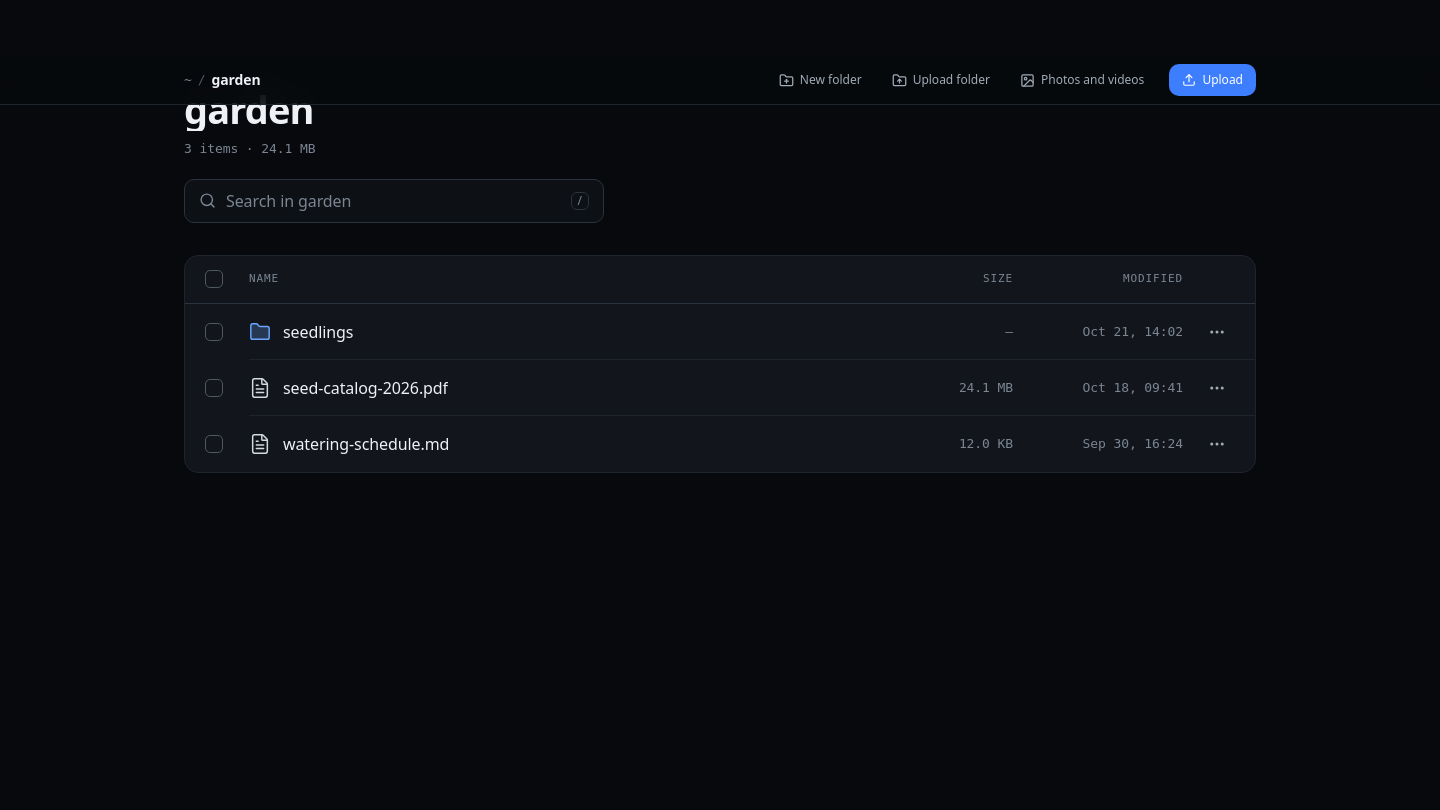
Test case: FilesPage › moves selected items to trash
Click the checkbox named "Select watering-schedule.md": (214, 444) [205, 435, 223, 453]
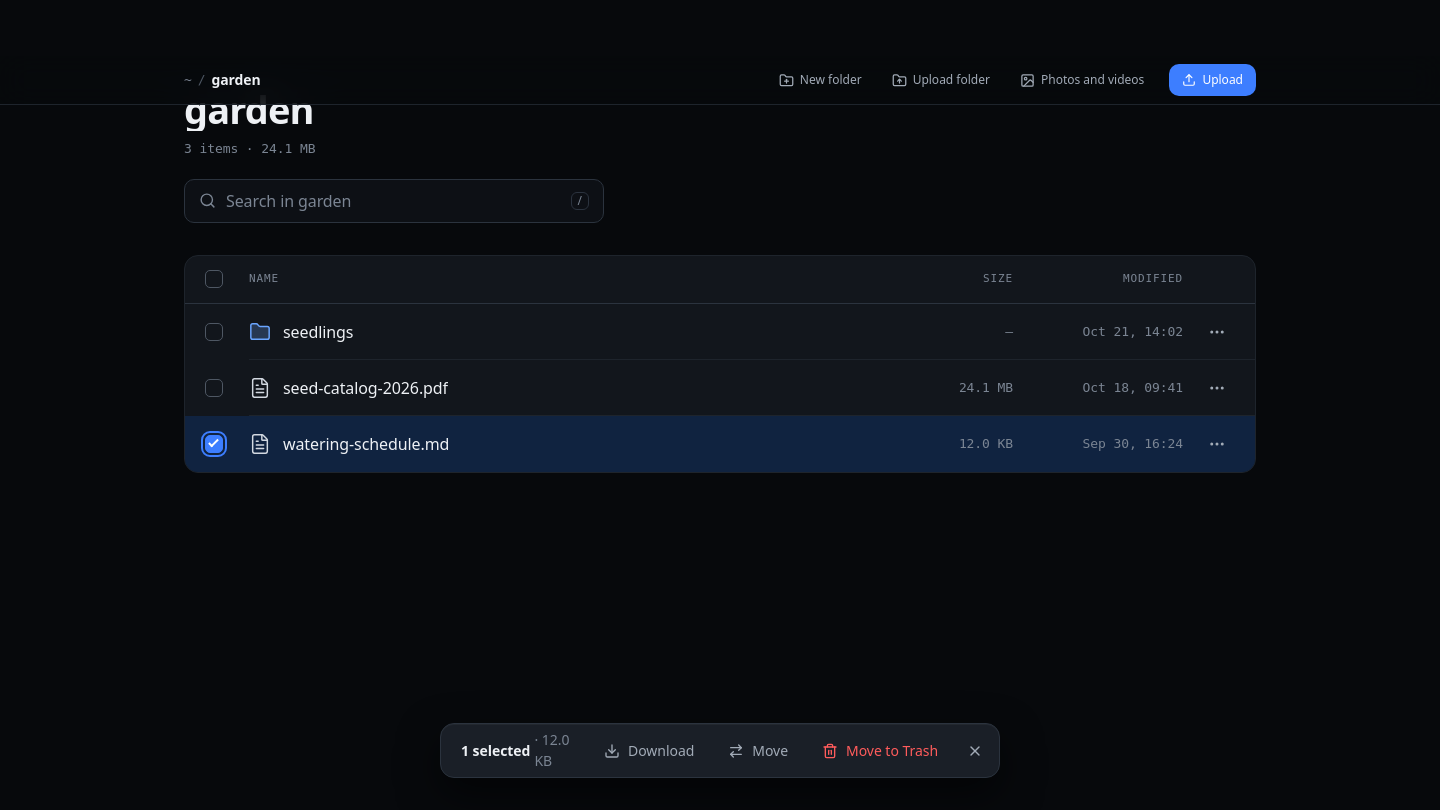
Expected: the element named "Selection" shows "1 selected", [440, 723, 1000, 778]
Click the button "Move to Trash": (880, 751) [807, 733, 953, 769]
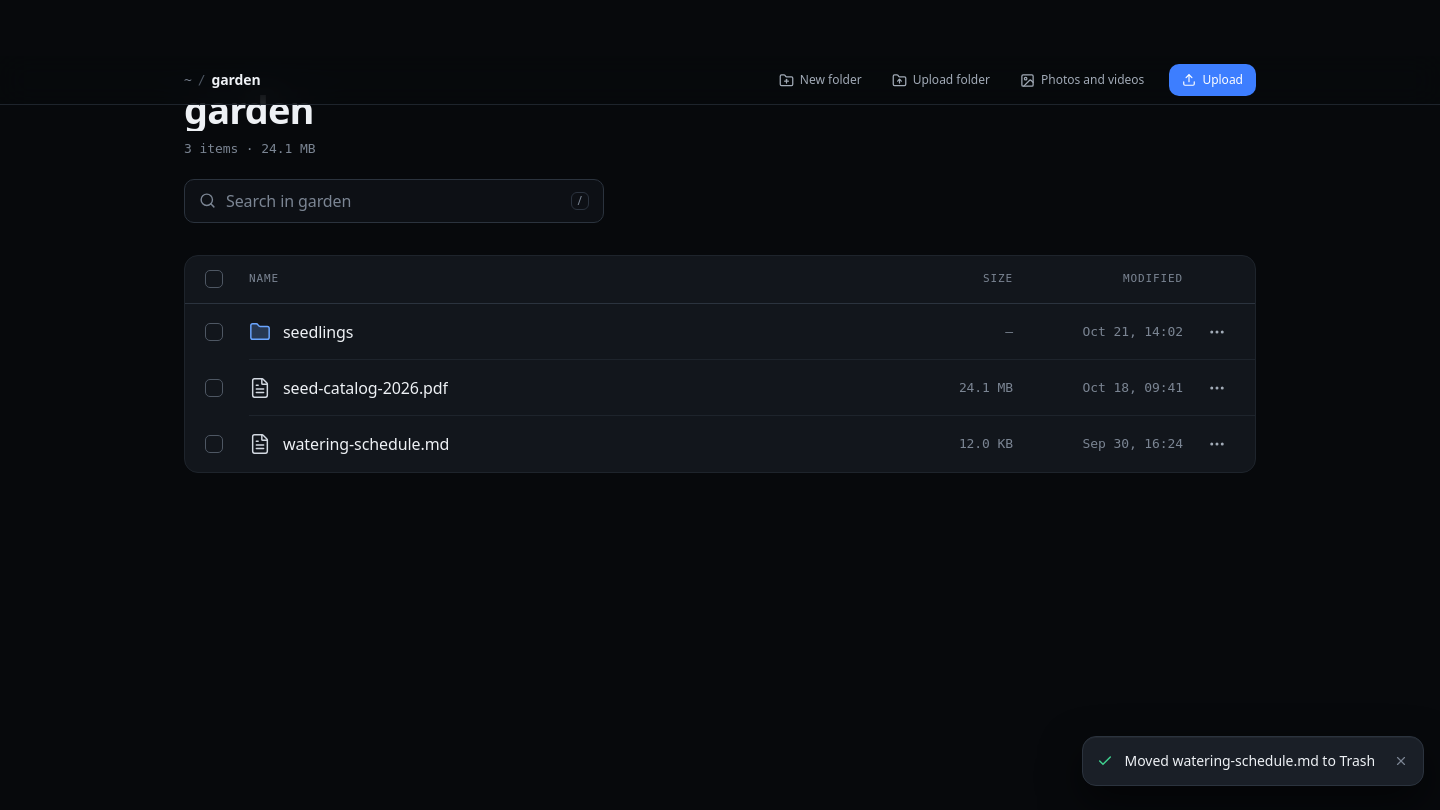
Expected: the message reads "Moved watering-schedule.md to Trash", [1124, 751, 1375, 770]
